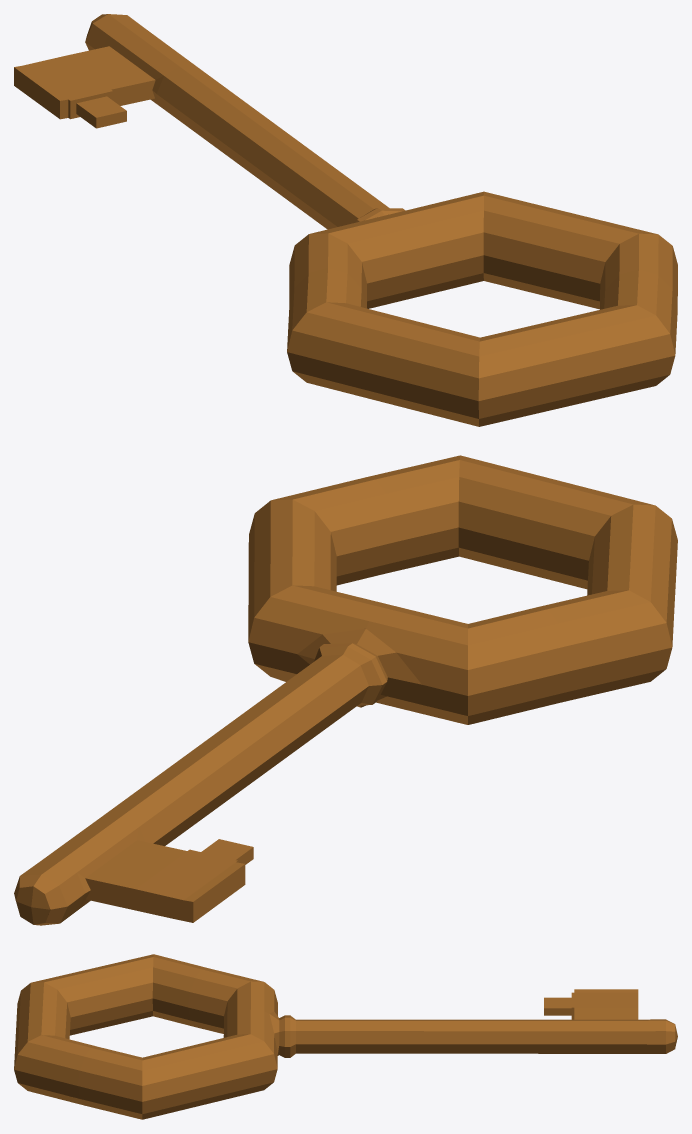
File: key.fbx
3 views of the same model, one above another, from view 1: azimuth 30°, elevation 25°; view 2: azimuth 150°, elevation 25°; view 3: azimuth 270°, elevation 25° (orthographic). The views are drawn at different scales.
Visible parts, largest first — view 1: Torus; view 2: Torus; view 3: Torus.
Boxes of the visible parts, x1,y1,x2,y2 form: Torus: (14,14,677,426); Torus: (14,455,677,925); Torus: (14,954,677,1119).
Size of the model in its own units: 246 by 50 by 532.
1 material, 1 textured.
